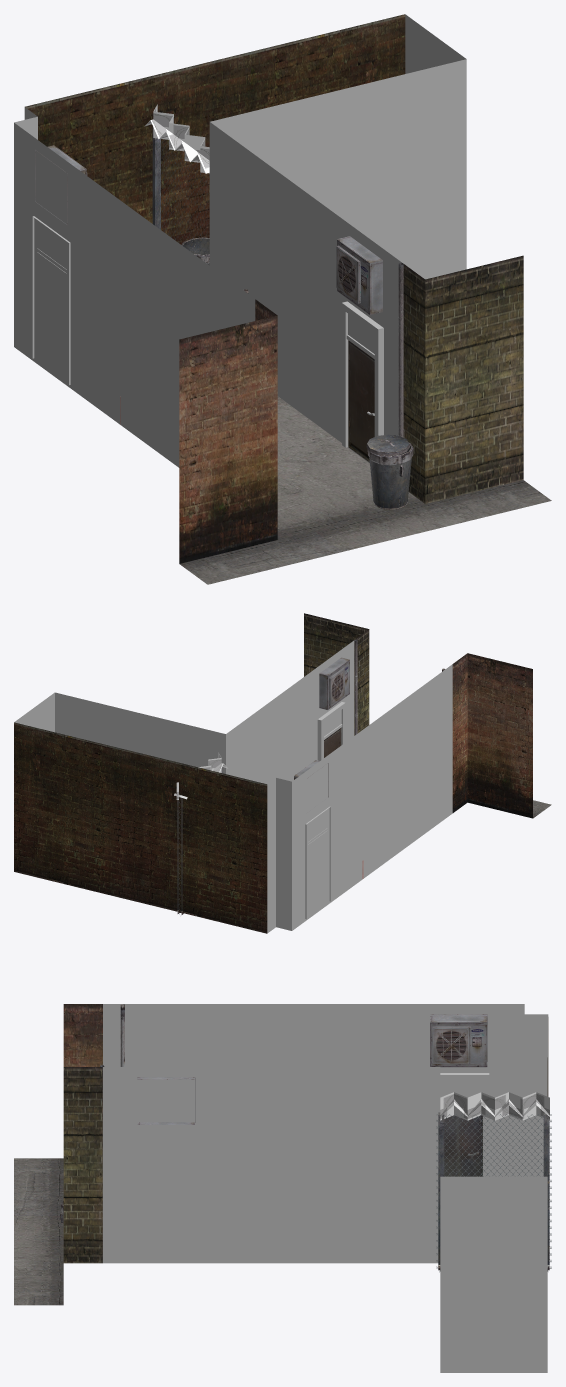
The model's file is Alley_02.fbx.
The picture shows the model from 3 angles, top to bottom: view 1: azimuth 30°, elevation 25°; view 2: azimuth 150°, elevation 25°; view 3: azimuth 270°, elevation 25°; orthographic projection. The views are drawn at different scales.
Visible parts, largest first — view 1: Alley_02; view 2: Alley_02; view 3: Alley_02.
Boxes of the visible parts, x1,y1,x2,y2 form: Alley_02: (14,14,551,584); Alley_02: (14,613,551,933); Alley_02: (14,1004,551,1372).
Size of the model in its own units: 1022 by 450 by 1084.
